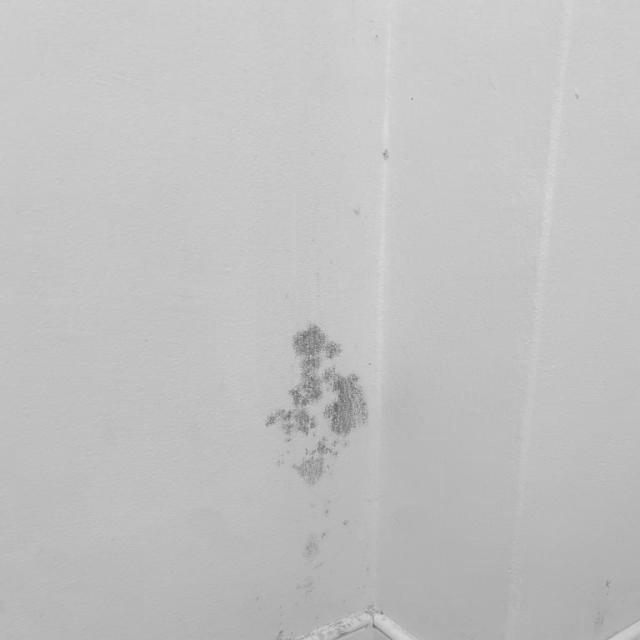stain marks: (228, 299, 385, 640), (577, 577, 617, 640), (373, 142, 397, 170), (345, 202, 369, 230)
